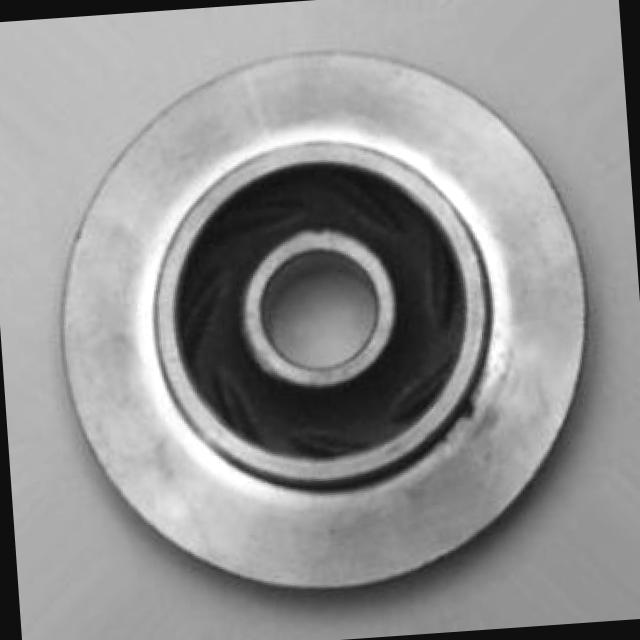Defect: (456, 392, 484, 433)
